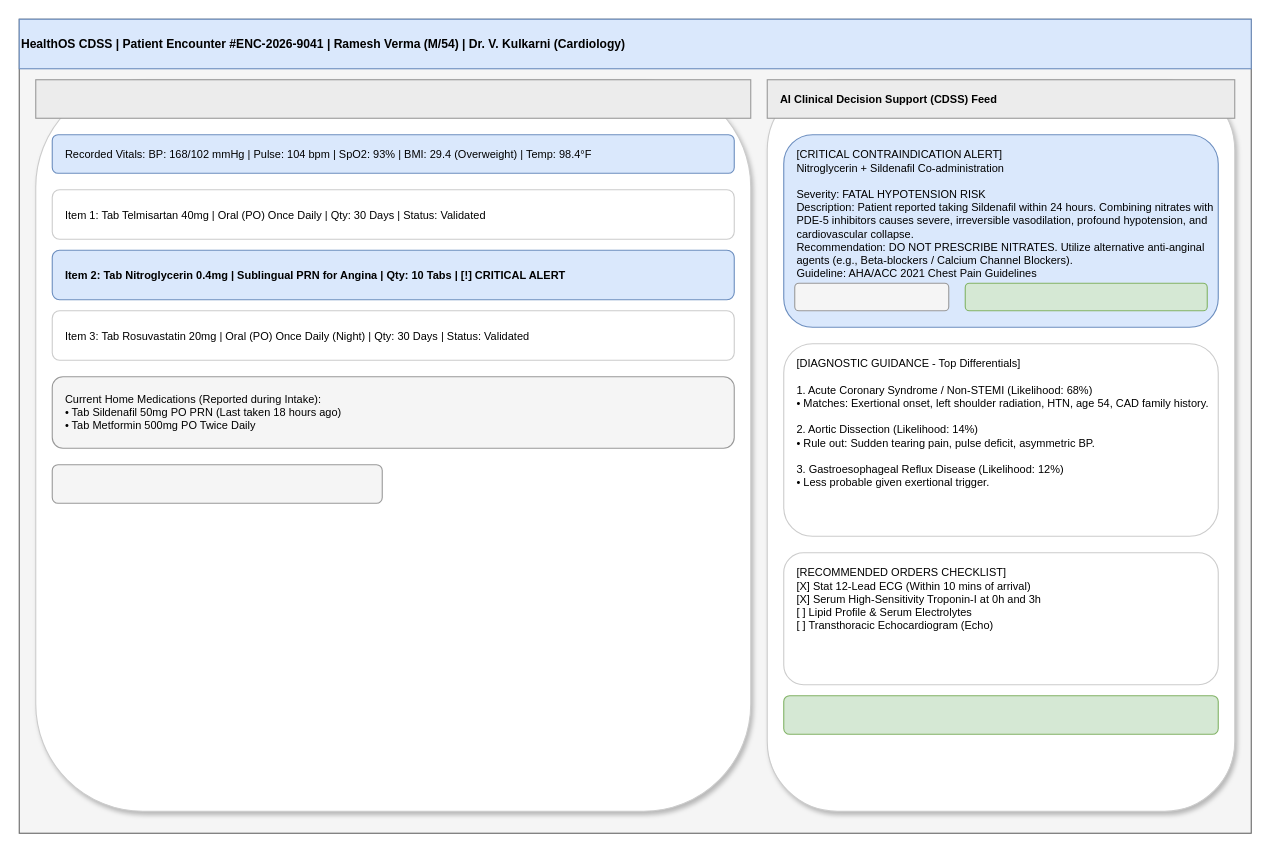
The diagram is 1271 pixels wide and 853 high, and some of its shapes have lost their labels. Each missing label, with the centre of its shape:
+ Add Another Medication / Lab Investigation: the point at 216,483
+ Order All Recommended Labs: the point at 1000,714
[Accept] Remove Nitroglycerin: the point at 1085,296
Active Prescription & Clinical Orders Builder: the point at 393,98
Override with Reason: the point at 871,296
